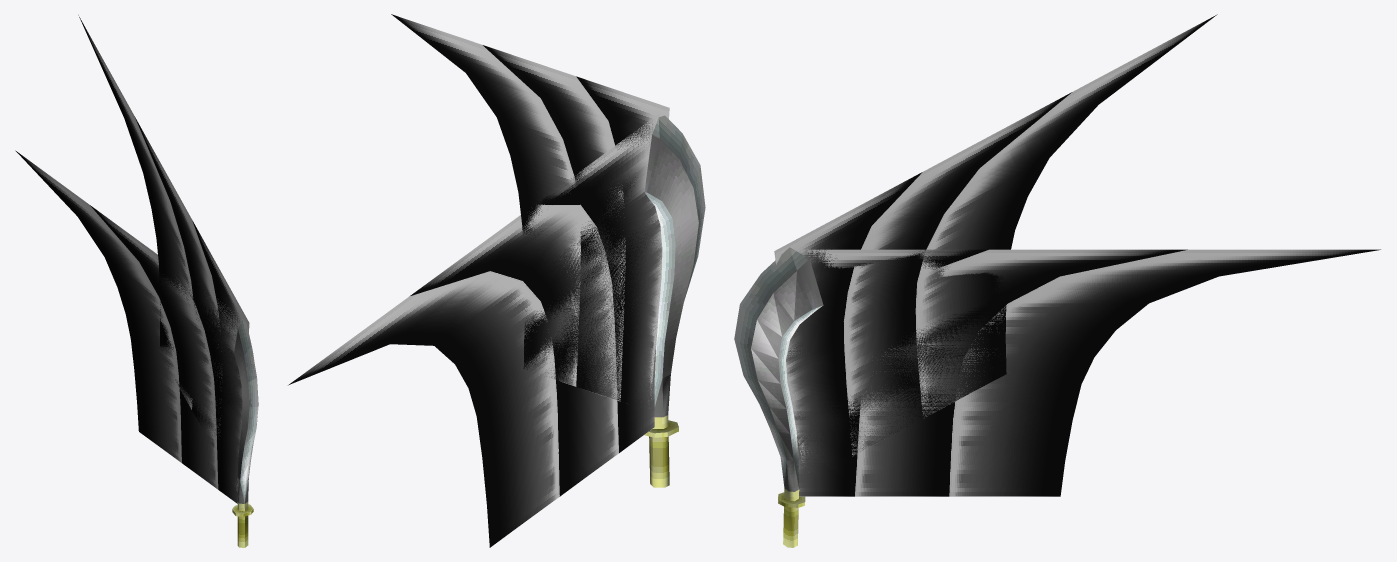
File: EffKirbyFinalcutterB2.obj
3 renders of one model, left to right at view 1: azimuth 30°, elevation 25°; view 2: azimuth 150°, elevation 25°; view 3: azimuth 270°, elevation 25°, orthographic. The views are drawn at different scales.
Parts seen in each view (by area): view 1: polygon2, polygon1, polygon0, polygon6, polygon3, polygon5, polygon4; view 2: polygon2, polygon1, polygon0, polygon6, polygon5, polygon3, polygon4; view 3: polygon2, polygon6, polygon1, polygon5, polygon4, polygon3, polygon0.
Part boxes in pixels (x1,y1,x2,y2): polygon2: [15, 150, 181, 462]; polygon1: [90, 205, 218, 489]; polygon0: [184, 284, 242, 503]; polygon6: [78, 15, 194, 409]; polygon3: [232, 319, 258, 547]; polygon5: [134, 116, 221, 442]; polygon4: [192, 220, 249, 491]; polygon2: [288, 271, 559, 547]; polygon1: [410, 205, 618, 496]; polygon0: [537, 114, 662, 452]; polygon6: [391, 14, 580, 386]; polygon5: [483, 45, 625, 401]; polygon3: [644, 115, 705, 487]; polygon4: [576, 76, 669, 406]; polygon2: [949, 249, 1380, 496]; polygon6: [915, 14, 1217, 416]; polygon1: [855, 249, 1187, 496]; polygon5: [844, 92, 1071, 456]; polygon4: [774, 172, 922, 467]; polygon3: [734, 247, 823, 547]; polygon0: [786, 249, 988, 496].
Size of the model in its own units: 1.49 by 29.58 by 32.74.
Materials: 4 (4 with a texture image).
